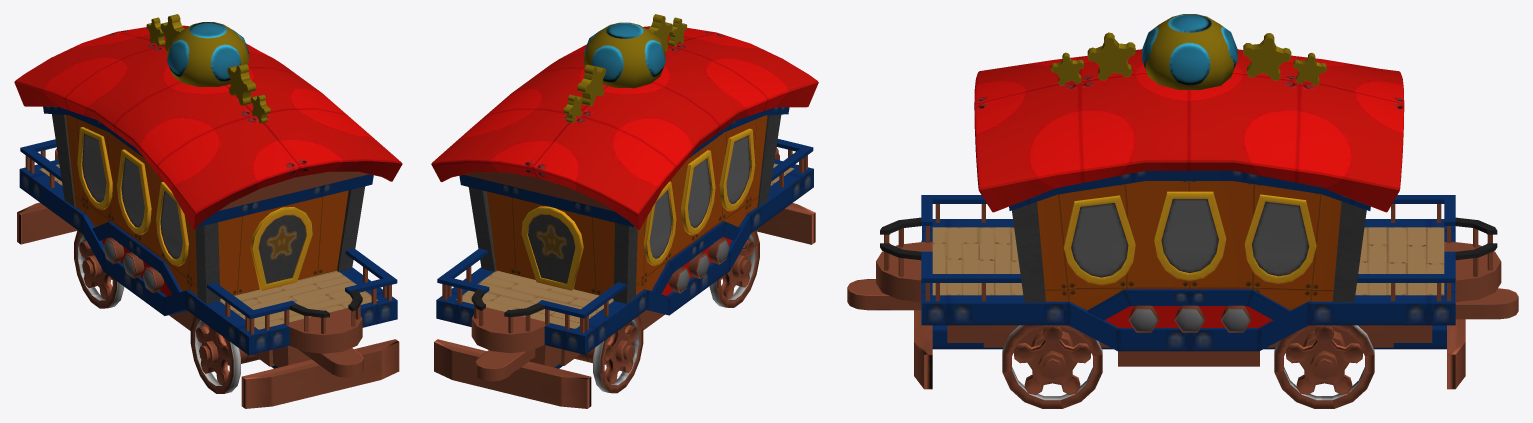
Rendered from Train3dsrrB_Prefab.fbx.
3 renders of one model, left to right at view 1: azimuth 30°, elevation 25°; view 2: azimuth 150°, elevation 25°; view 3: azimuth 270°, elevation 25°, orthographic. The views are drawn at different scales.
Parts seen in each view (by area): view 1: Train3dsrrB_Body_LOD0, B_Wheel_00_Body_LOD0, B_Wheel_01_Body_LOD0; view 2: Train3dsrrB_Body_LOD0, B_Wheel_01_Body_LOD0, B_Wheel_00_Body_LOD0; view 3: Train3dsrrB_Body_LOD0, B_Wheel_00_Body_LOD0, B_Wheel_01_Body_LOD0.
Part boxes in pixels (x1=…): Train3dsrrB_Body_LOD0: x1=14, y1=14, x2=402, y2=408; B_Wheel_00_Body_LOD0: x1=190, y1=316, x2=240, y2=393; B_Wheel_01_Body_LOD0: x1=74, y1=230, x2=124, y2=308; Train3dsrrB_Body_LOD0: x1=431, y1=14, x2=818, y2=408; B_Wheel_01_Body_LOD0: x1=593, y1=315, x2=643, y2=393; B_Wheel_00_Body_LOD0: x1=709, y1=230, x2=759, y2=307; Train3dsrrB_Body_LOD0: x1=847, y1=14, x2=1518, y2=389; B_Wheel_00_Body_LOD0: x1=1002, y1=325, x2=1102, y2=408; B_Wheel_01_Body_LOD0: x1=1274, y1=325, x2=1374, y2=408.
Size of what is drawn, in the model's own units: 9.68 by 13.71 by 23.29.
